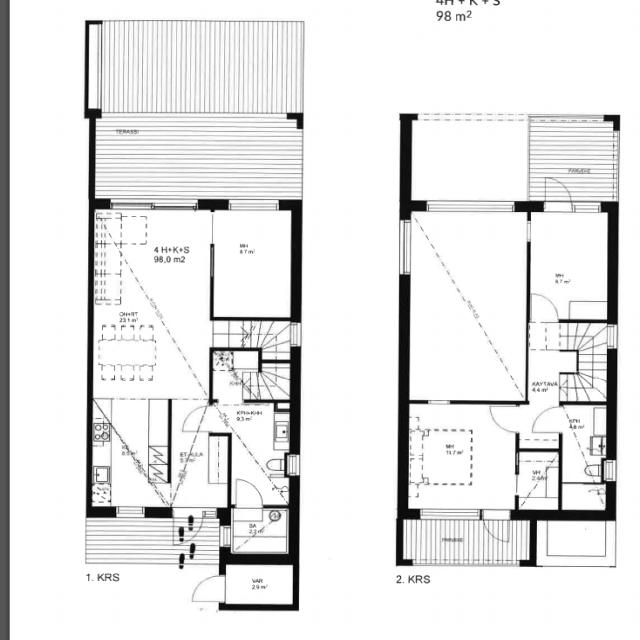door: (171, 506, 205, 551), (186, 571, 228, 606), (538, 174, 573, 213), (526, 290, 562, 325), (230, 476, 264, 512), (485, 402, 522, 435), (528, 403, 565, 436), (481, 510, 512, 545), (179, 402, 211, 435)
window: (421, 195, 517, 217), (393, 214, 415, 281), (225, 198, 282, 214), (416, 508, 483, 520), (110, 503, 154, 519), (108, 198, 155, 212), (569, 199, 606, 216), (150, 200, 197, 213), (288, 319, 303, 351), (604, 321, 619, 353), (285, 451, 302, 479), (218, 522, 234, 551), (601, 457, 618, 484), (522, 217, 534, 245), (424, 398, 453, 408), (512, 471, 520, 498)
zone: (403, 208, 527, 404), (90, 210, 209, 398), (404, 402, 516, 514), (527, 207, 610, 321), (210, 206, 293, 320), (167, 401, 292, 475), (89, 398, 169, 510), (210, 319, 288, 399), (560, 403, 606, 510), (222, 562, 295, 608), (228, 507, 290, 556), (514, 449, 560, 512)
